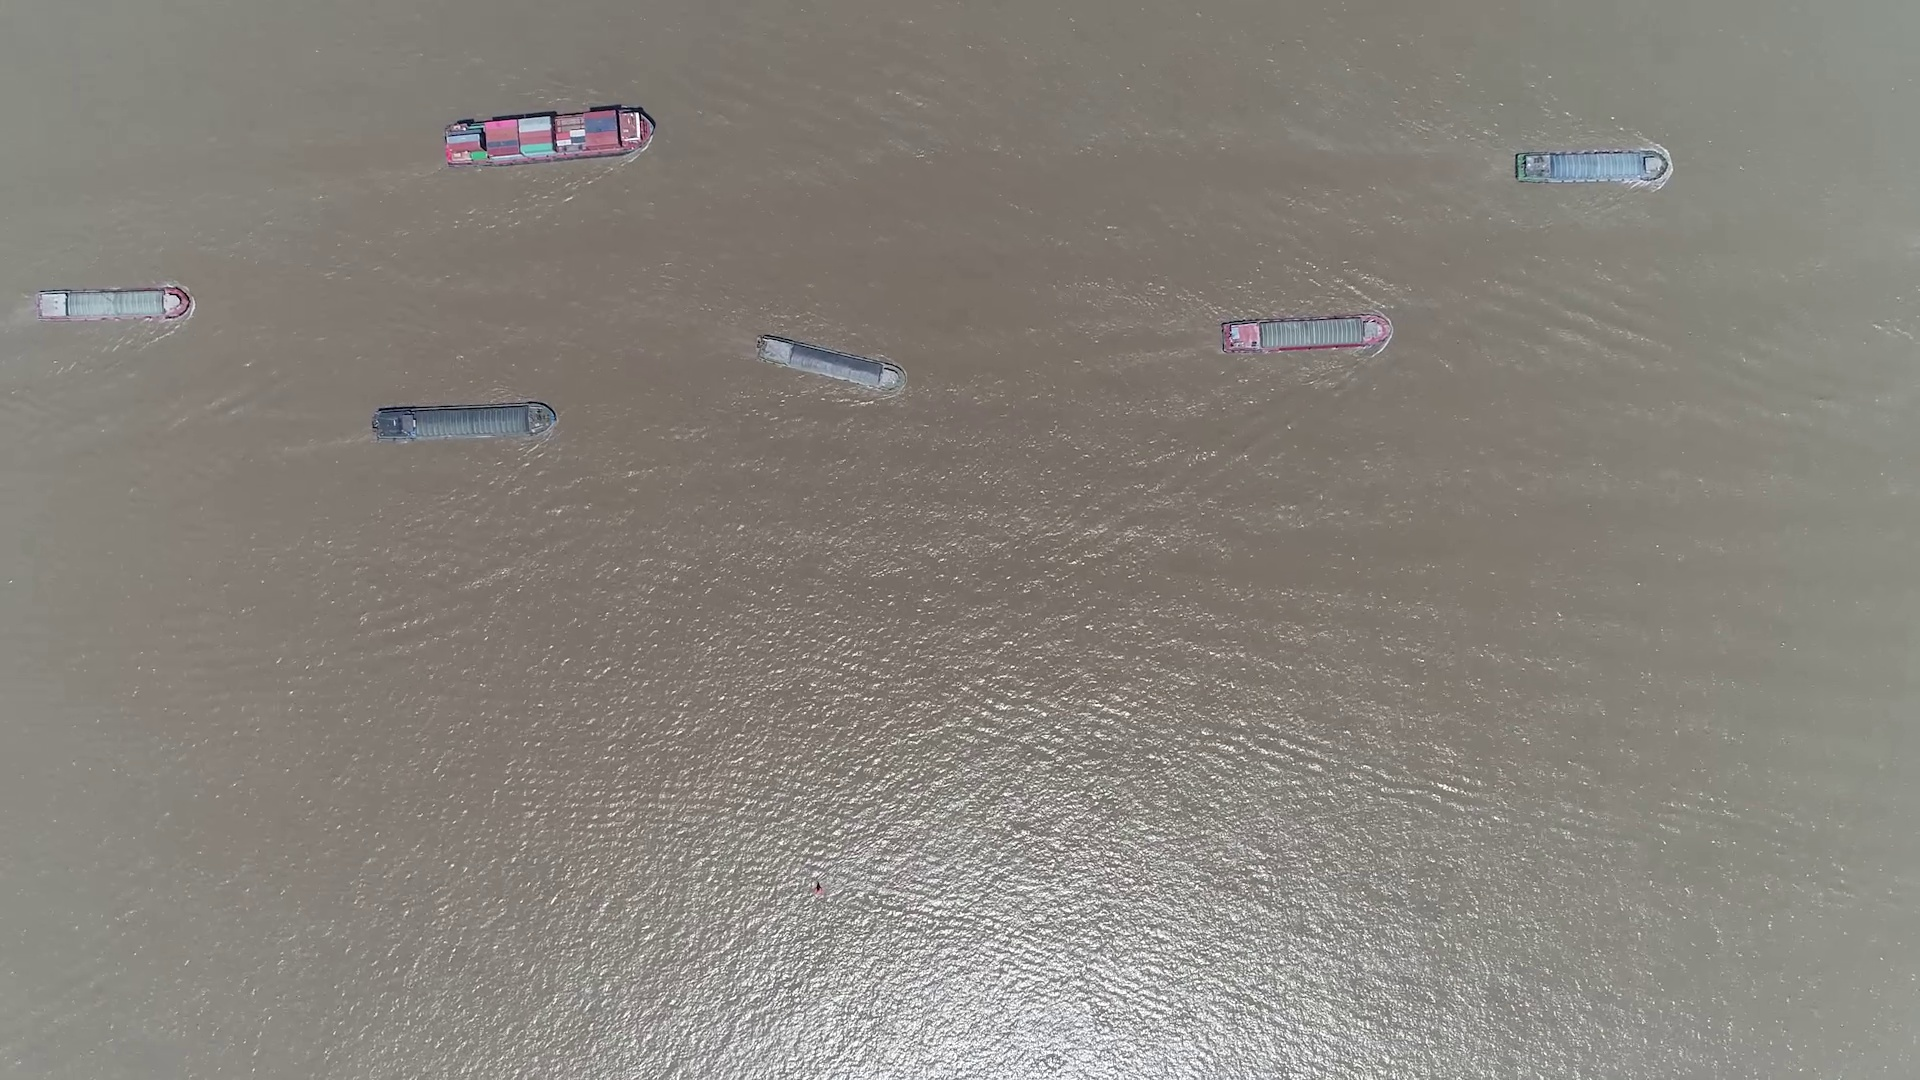ship: (440, 109, 655, 166), (754, 335, 903, 389), (372, 404, 556, 442), (1220, 316, 1391, 353), (32, 287, 189, 320), (1515, 153, 1667, 185)
